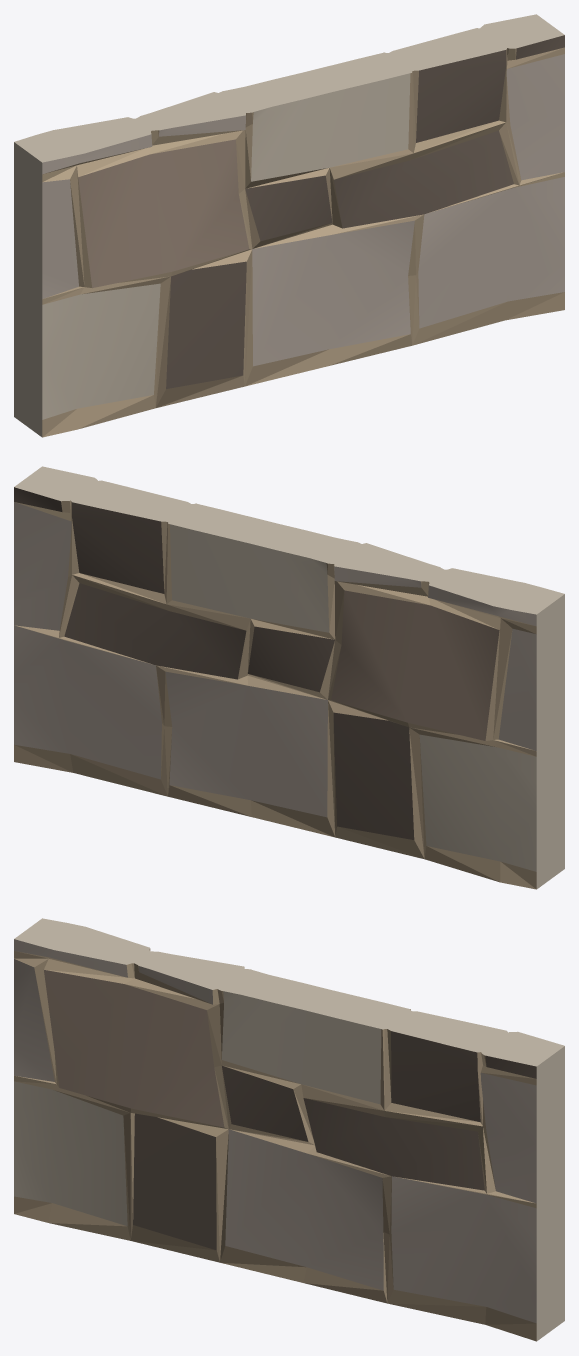
Rendered from RG-Dungeon_small_Wall-06.fbx.
3 renders of one model, top to bottom at view 1: azimuth 30°, elevation 25°; view 2: azimuth 150°, elevation 25°; view 3: azimuth 330°, elevation 25°, orthographic.
Visible parts, largest first — view 1: RG-Dungeon_small_Wall-06; view 2: RG-Dungeon_small_Wall-06; view 3: RG-Dungeon_small_Wall-06.
Part boxes in pixels (<box>): RG-Dungeon_small_Wall-06: <box>14,14,564,437</box>; RG-Dungeon_small_Wall-06: <box>14,466,564,889</box>; RG-Dungeon_small_Wall-06: <box>14,918,564,1341</box>.
Size of the model in its own units: 20 by 10.05 by 2.65.
